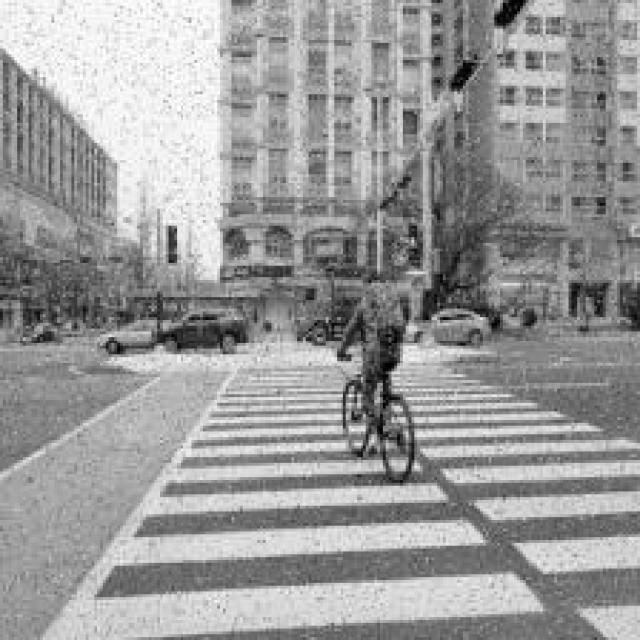crosswalk: (57, 361, 639, 640)
